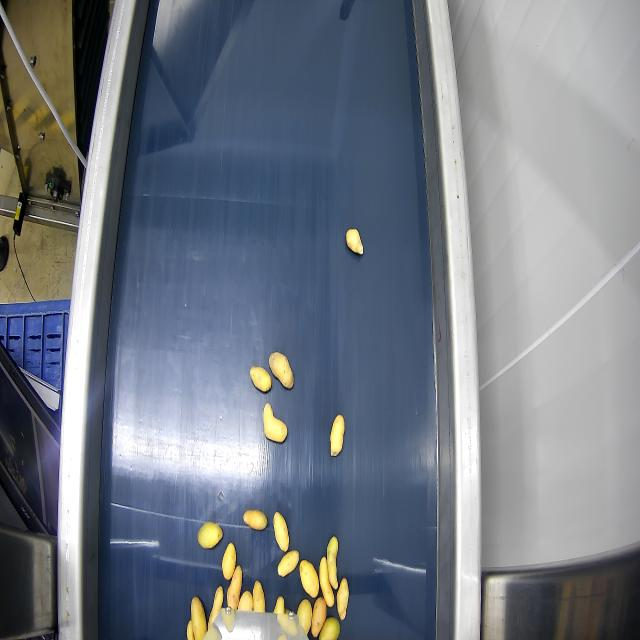Baby Potato: (263, 403, 287, 442), (269, 352, 293, 389), (319, 556, 335, 608), (299, 560, 319, 598), (273, 512, 289, 553), (330, 414, 345, 457), (227, 565, 241, 610), (191, 597, 206, 639), (208, 586, 223, 628), (198, 522, 222, 548), (311, 597, 326, 637), (327, 536, 338, 589), (250, 367, 271, 392), (278, 551, 299, 576), (222, 543, 236, 580), (336, 578, 348, 620), (243, 510, 267, 530), (297, 600, 311, 633), (346, 229, 363, 255), (320, 617, 340, 639), (253, 581, 265, 612), (238, 591, 252, 611), (274, 596, 284, 614), (187, 620, 193, 639)
